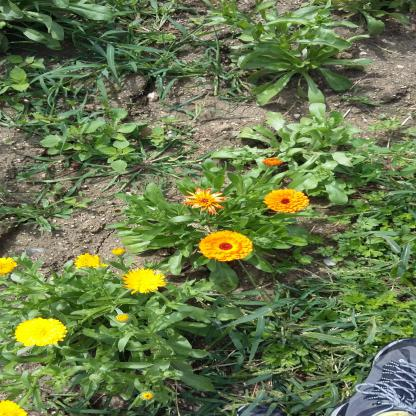marigold: (231, 164, 260, 216), (318, 349, 345, 401), (190, 107, 212, 151), (270, 250, 292, 292)
